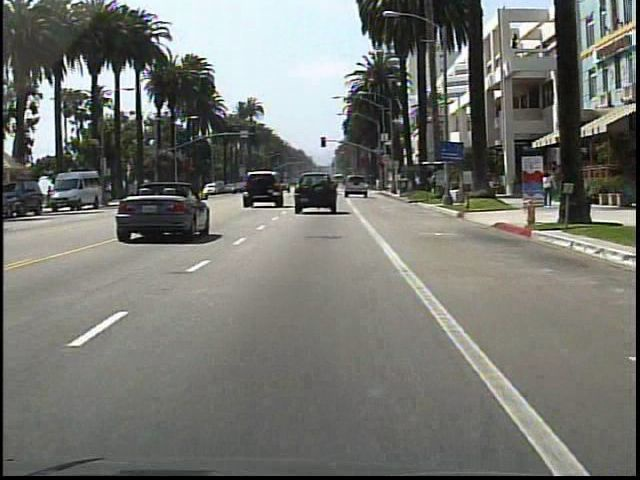person: (541, 171, 555, 211)
